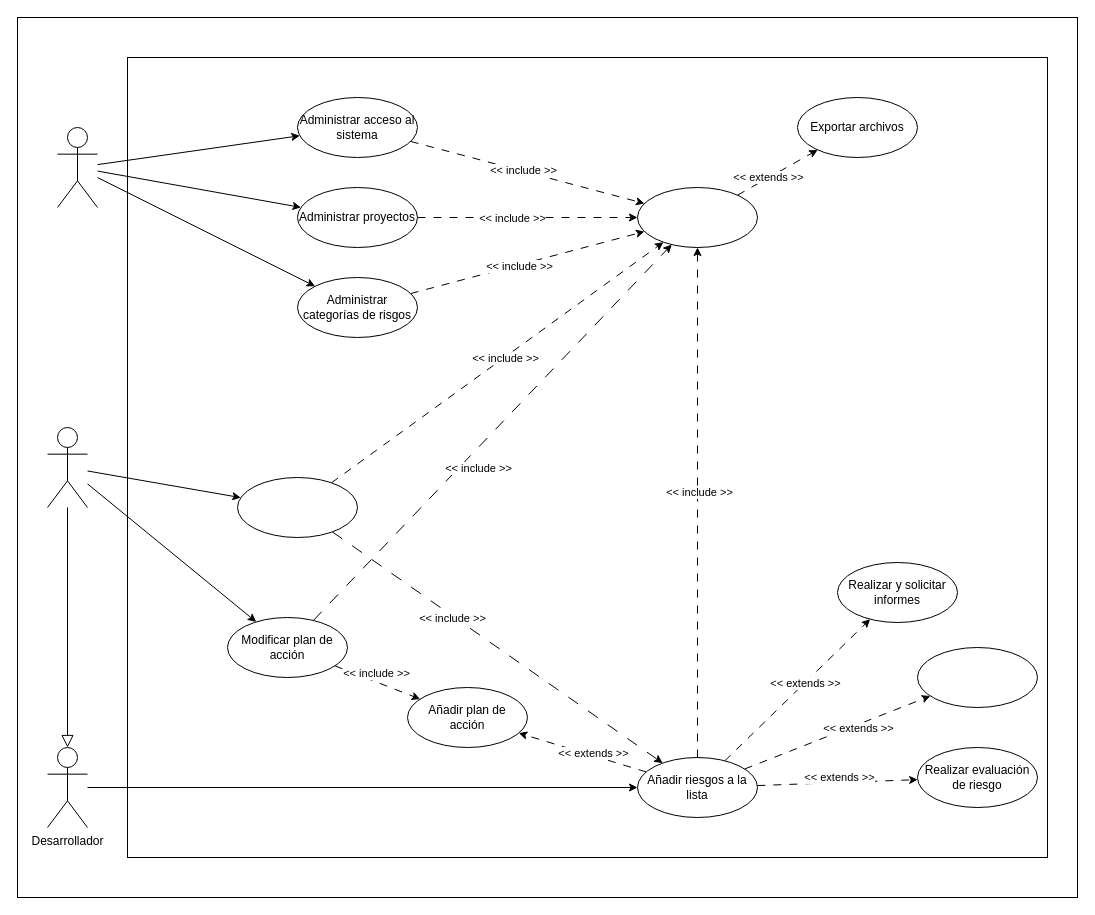
This 1095x915 diagram has some shape labels left out. Each missing label, with the centre of its shape:
Administrador: the point at 77,167
Autentificarse: the point at 697,217
Lider del proyecto: the point at 67,467
Modificar lista de riesgos: the point at 297,507
Realizar análisis de riesgo: the point at 977,677
